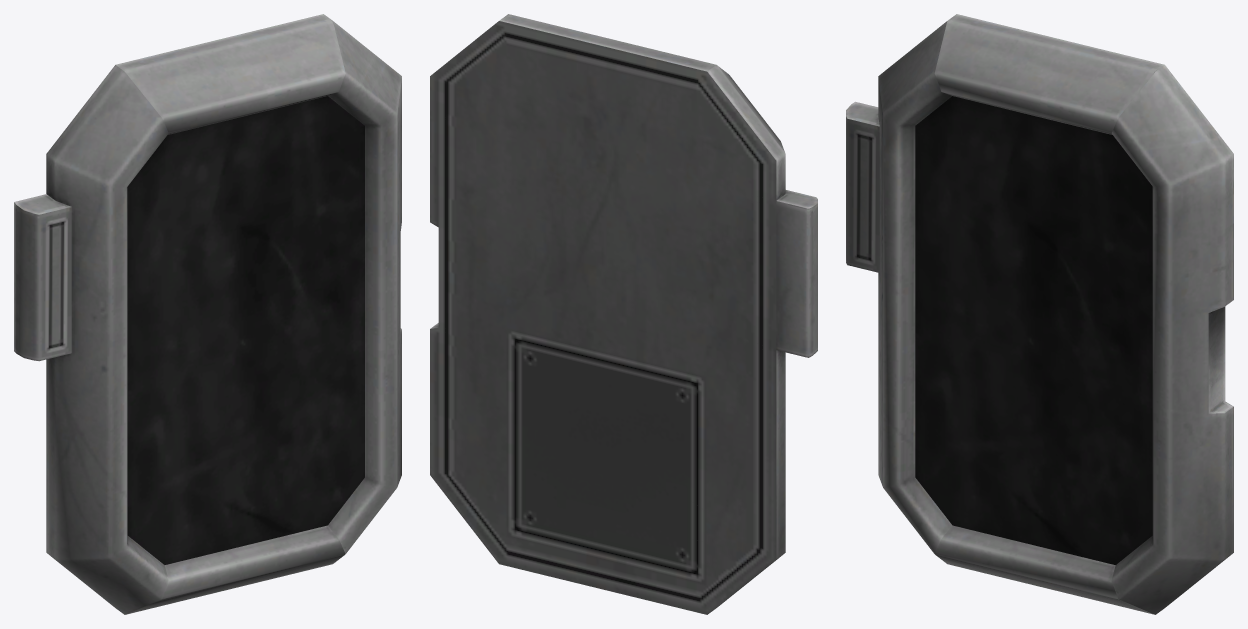
Rendered from door_panel_broken_rigid.dae.
3 renders of one model, left to right at view 1: azimuth 30°, elevation 25°; view 2: azimuth 150°, elevation 25°; view 3: azimuth 330°, elevation 25°, orthographic.
Parts seen in each view (by area): view 1: panel_rigid; view 2: panel_rigid; view 3: panel_rigid.
Part boxes in pixels (box(x1,y1,x2,y2)): panel_rigid: box(14, 14, 401, 614); panel_rigid: box(430, 14, 817, 614); panel_rigid: box(846, 14, 1233, 614).
Bounding box in the file's own units: 0.4509 × 0.6171 × 0.0707.
